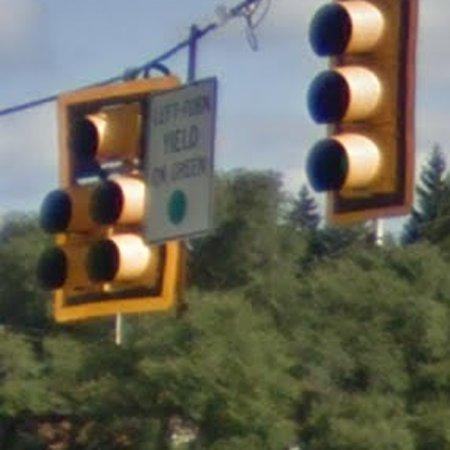traffic lights: (38, 76, 185, 325), (306, 0, 417, 222)
